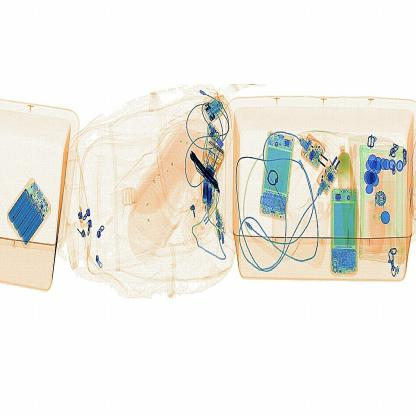knife: (187, 152, 221, 194)
